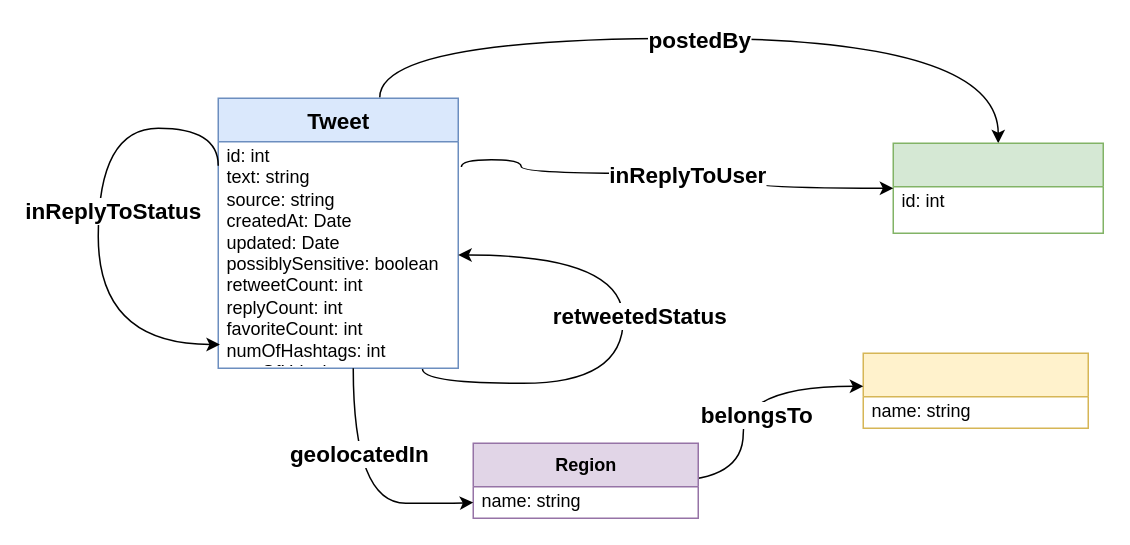
This 1130x545 diagram has some shape labels left out. Here are the shapes that lost their labels. From the top down, the box of each, then its label:
(892, 142, 1103, 233): User
(862, 352, 1088, 428): Country
